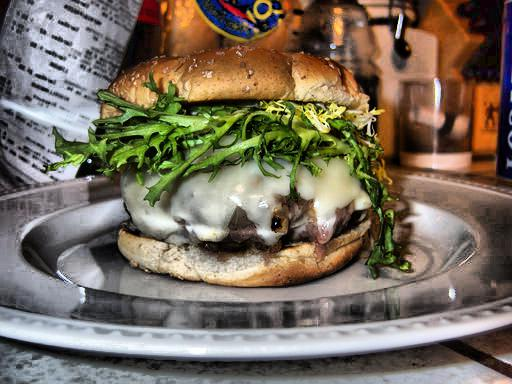burger: (88, 39, 377, 289)
